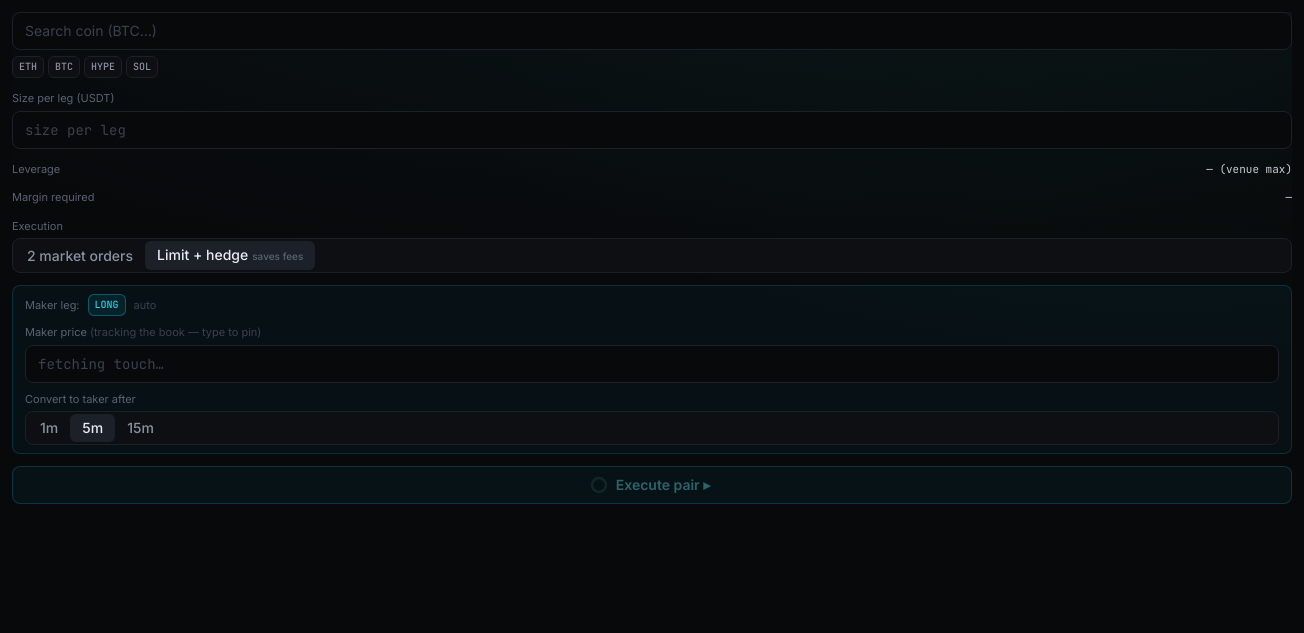
Test: coin search (ratio-pair filter) › typing 'eth' lists ETH but hides the ETHBTC ratio market
Type "eth" into the field named "Coin search".
click(652, 31); type("eth")  # box left=12, top=12, right=1292, bottom=50
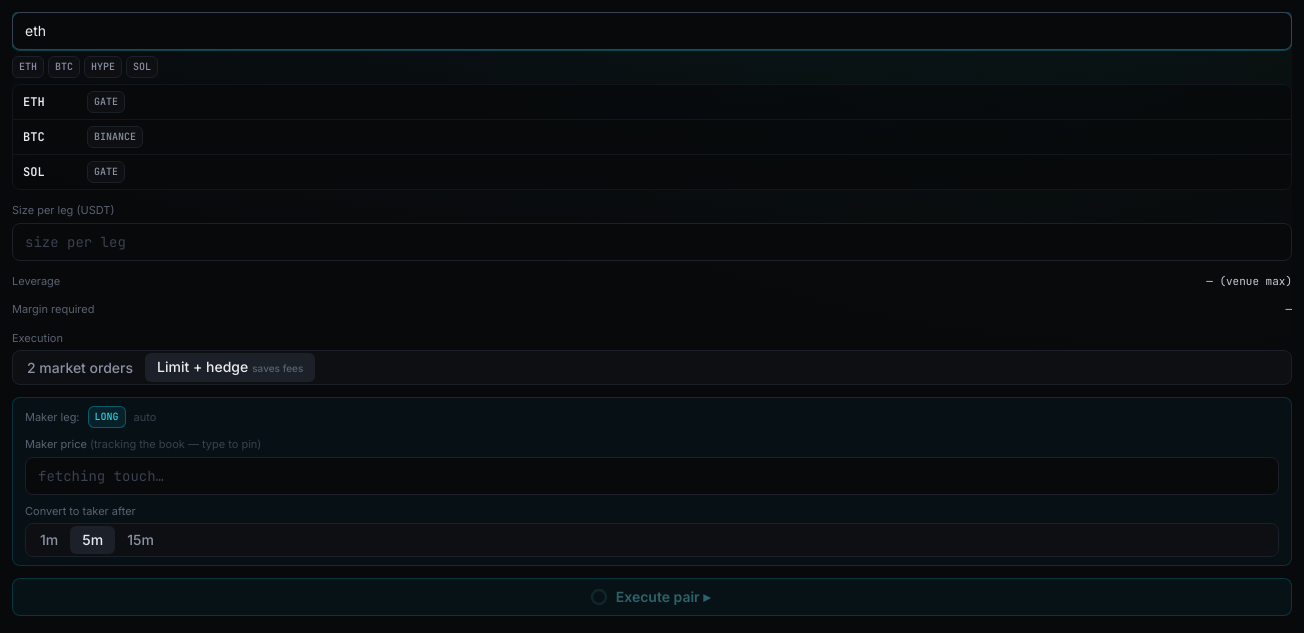
Now the text "ETH" is shown, box left=23, top=94, right=45, bottom=110
